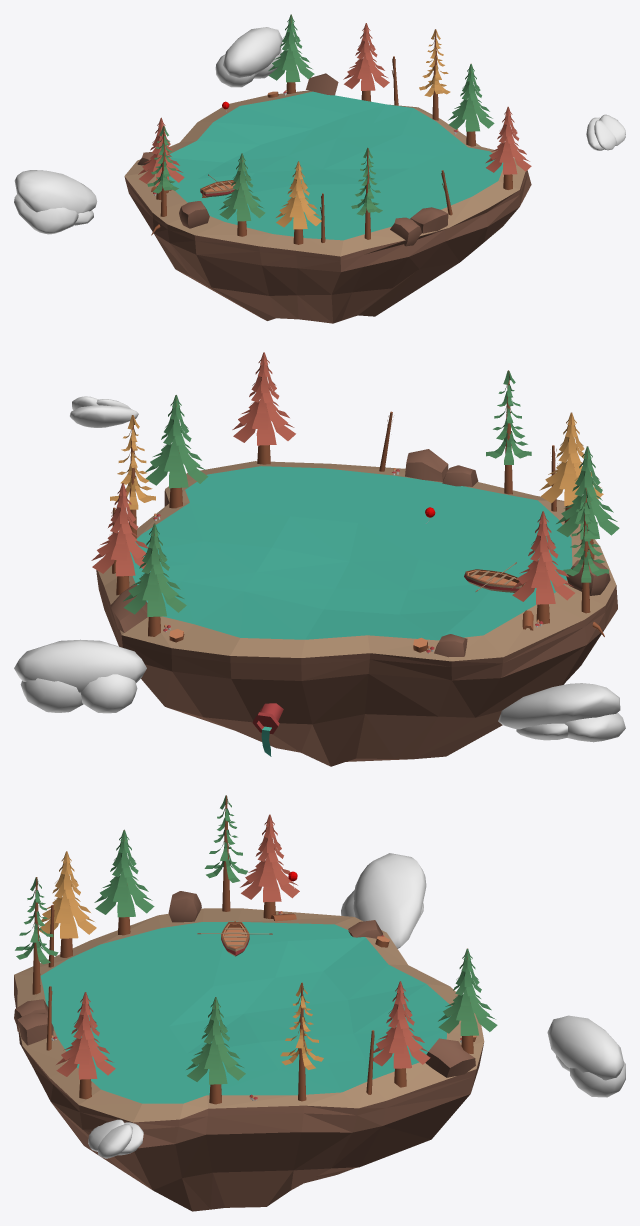
File: cozy_lake.glb
The picture shows the model from 3 angles, top to bottom: view 1: azimuth 30°, elevation 25°; view 2: azimuth 150°, elevation 25°; view 3: azimuth 270°, elevation 25°; orthographic projection. The views are drawn at different scales.
Parts seen in each view (by area): view 1: Island_01_Water_0, Island_01_Dirt_0, Island_01_Sand_0, Cloud01, Cloud02, Tree_Dense_Yellow, Tree_Dense_Red_002, Tree_Dense_01, Tree_Dense_002, Tree_Dense_003, Tree_Dense_Red_01, Cloud03 (+8 smaller); view 2: Island_01_Water_0, Island_01_Dirt_0, Island_01_Sand_0, Cloud02, Cloud01, Tree_Dense_002, Tree_Dense_003, Tree_Dense_Red_002, Tree_Dense_Red_003, Tree_Dense_Red_01, Tree_Dense_01, Tree_Dense_Yellow (+10 smaller); view 3: Island_01_Water_0, Island_01_Dirt_0, Island_01_Sand_0, Cloud01, Cloud02, Tree_Dense_Red_002, Tree_Dense_002, Tree_Dense_Red_01, Tree_Dense_01, Tree_Dense_003, Tree_Dense_Red_003, Tree_Dense_Yellow (+7 smaller).
Part boxes in pixels (bbox=[...]): Island_01_Water_0: bbox=[167, 91, 503, 240]; Island_01_Dirt_0: bbox=[124, 170, 531, 323]; Island_01_Sand_0: bbox=[124, 90, 525, 256]; Cloud01: bbox=[14, 170, 97, 234]; Cloud02: bbox=[215, 27, 282, 87]; Tree_Dense_Yellow: bbox=[276, 161, 321, 244]; Tree_Dense_Red_002: bbox=[485, 106, 531, 189]; Tree_Dense_01: bbox=[219, 153, 265, 236]; Tree_Dense_002: bbox=[448, 63, 494, 146]; Tree_Dense_003: bbox=[268, 14, 314, 93]; Tree_Dense_Red_01: bbox=[343, 23, 389, 101]; Cloud03: bbox=[586, 114, 625, 150]; Island_01_Water_0: bbox=[130, 466, 572, 640]; Island_01_Dirt_0: bbox=[96, 490, 617, 766]; Island_01_Sand_0: bbox=[98, 461, 616, 661]; Cloud02: bbox=[14, 639, 146, 713]; Cloud01: bbox=[498, 683, 625, 742]; Tree_Dense_002: bbox=[145, 395, 208, 508]; Tree_Dense_003: bbox=[123, 523, 186, 636]; Tree_Dense_Red_002: bbox=[232, 352, 295, 464]; Tree_Dense_Red_003: bbox=[512, 511, 574, 624]; Tree_Dense_Red_01: bbox=[91, 483, 147, 595]; Tree_Dense_01: bbox=[556, 446, 619, 559]; Tree_Dense_Yellow: bbox=[539, 412, 603, 522]; Island_01_Water_0: bbox=[40, 921, 451, 1103]; Island_01_Dirt_0: bbox=[14, 975, 483, 1211]; Island_01_Sand_0: bbox=[14, 908, 484, 1122]; Cloud01: bbox=[340, 853, 426, 948]; Cloud02: bbox=[547, 1015, 625, 1097]; Tree_Dense_Red_002: bbox=[56, 992, 115, 1099]; Tree_Dense_002: bbox=[186, 997, 245, 1104]; Tree_Dense_Red_01: bbox=[373, 981, 430, 1087]; Tree_Dense_01: bbox=[94, 829, 154, 935]; Tree_Dense_003: bbox=[438, 948, 497, 1053]; Tree_Dense_Red_003: bbox=[240, 814, 299, 918]; Tree_Dense_Yellow: bbox=[39, 851, 96, 957].
Size of the model in its own units: 712 by 306 by 584.
